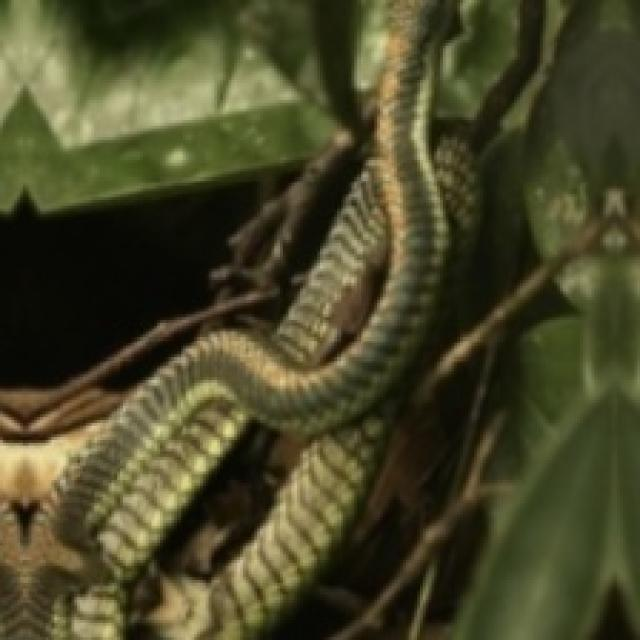paradise tree snake: (0, 0, 454, 637), (157, 429, 309, 563)
